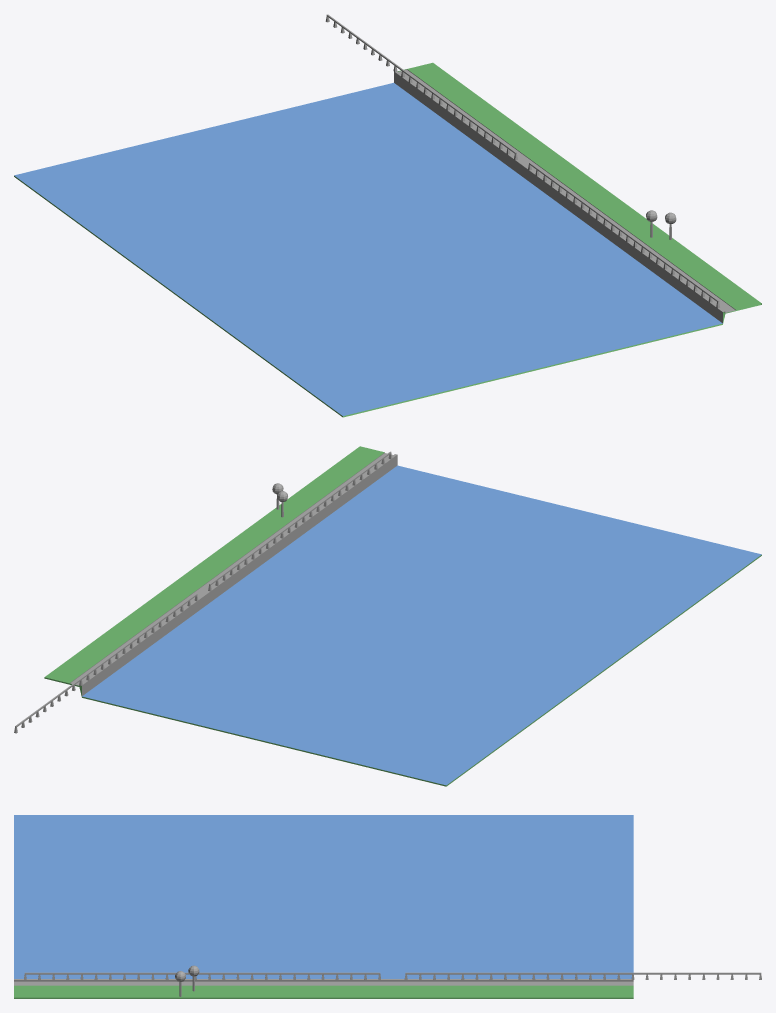
Rendered from River.fbx.
3 renders of one model, top to bottom at view 1: azimuth 30°, elevation 25°; view 2: azimuth 150°, elevation 25°; view 3: azimuth 270°, elevation 25°, orthographic. The views are drawn at different scales.
Parts seen in each view (by area): view 1: river, fenceNorth, fenceSouth; view 2: river, fenceNorth, fenceSouth; view 3: river, fenceSouth, fenceNorth.
Part boxes in pixels (left/top/right/bottom): river: left=14, top=62, right=761, bottom=417; fenceNorth: left=528, top=162, right=719, bottom=308; fenceSouth: left=325, top=14, right=517, bottom=159; river: left=44, top=446, right=761, bottom=786; fenceNorth: left=208, top=451, right=392, bottom=591; fenceSouth: left=14, top=593, right=198, bottom=733; river: left=14, top=815, right=633, bottom=998; fenceSouth: left=404, top=972, right=761, bottom=979; fenceNorth: left=24, top=972, right=380, bottom=979.
Bounding box in the file's own units: 323 × 28.04 × 528.
